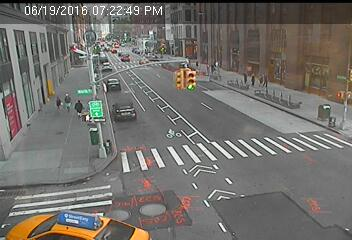neg: (92, 130, 116, 162), (314, 97, 335, 125), (86, 60, 106, 87), (186, 53, 205, 78), (74, 51, 89, 71), (138, 41, 153, 61), (300, 68, 314, 88), (277, 88, 291, 107), (111, 45, 125, 63), (159, 44, 168, 57)
pos: (57, 90, 77, 117), (69, 96, 87, 120), (49, 92, 66, 115), (257, 69, 274, 91), (254, 71, 268, 90), (246, 71, 260, 88), (239, 69, 251, 86)
